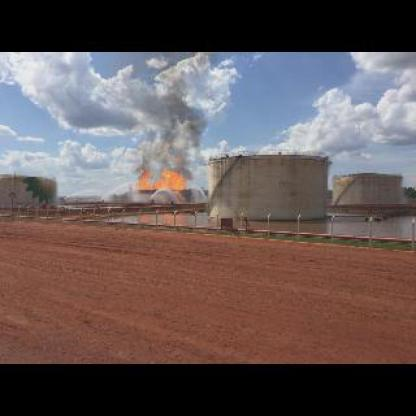fire: (132, 160, 188, 193)
